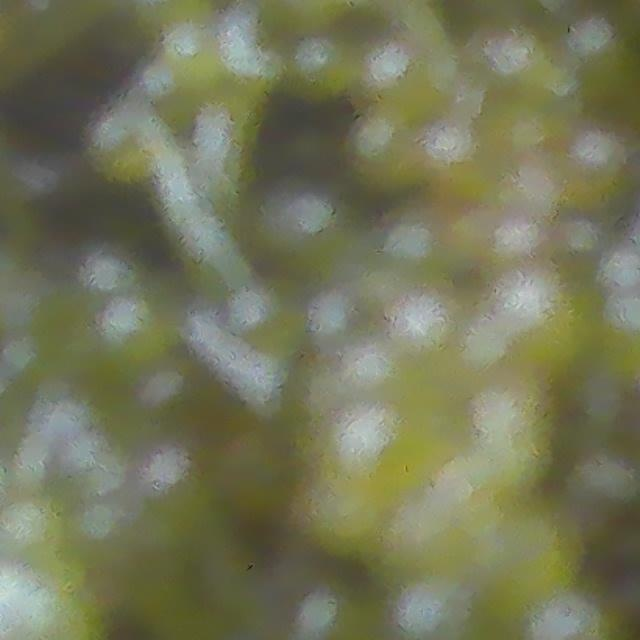SeaGrape: (248, 175, 350, 276), (0, 493, 66, 561)
